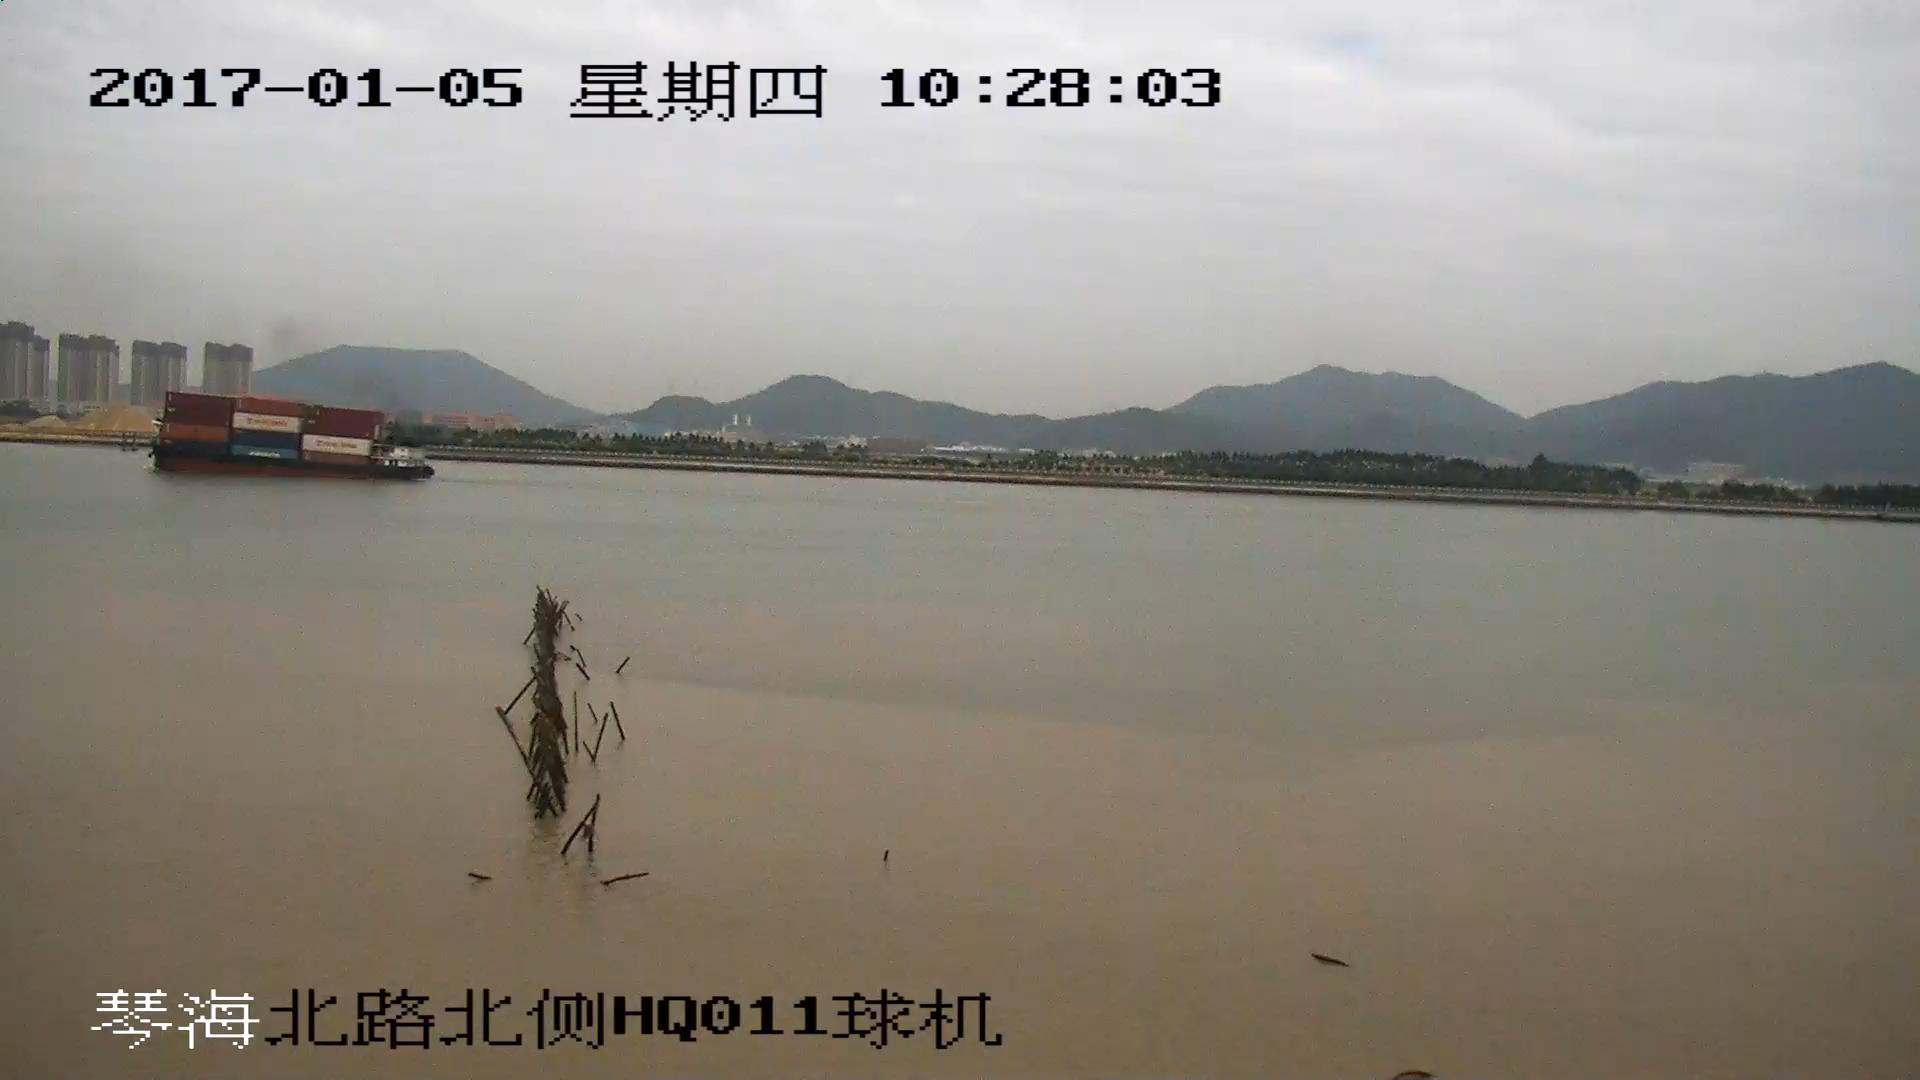container ship: (149, 394, 435, 482)
